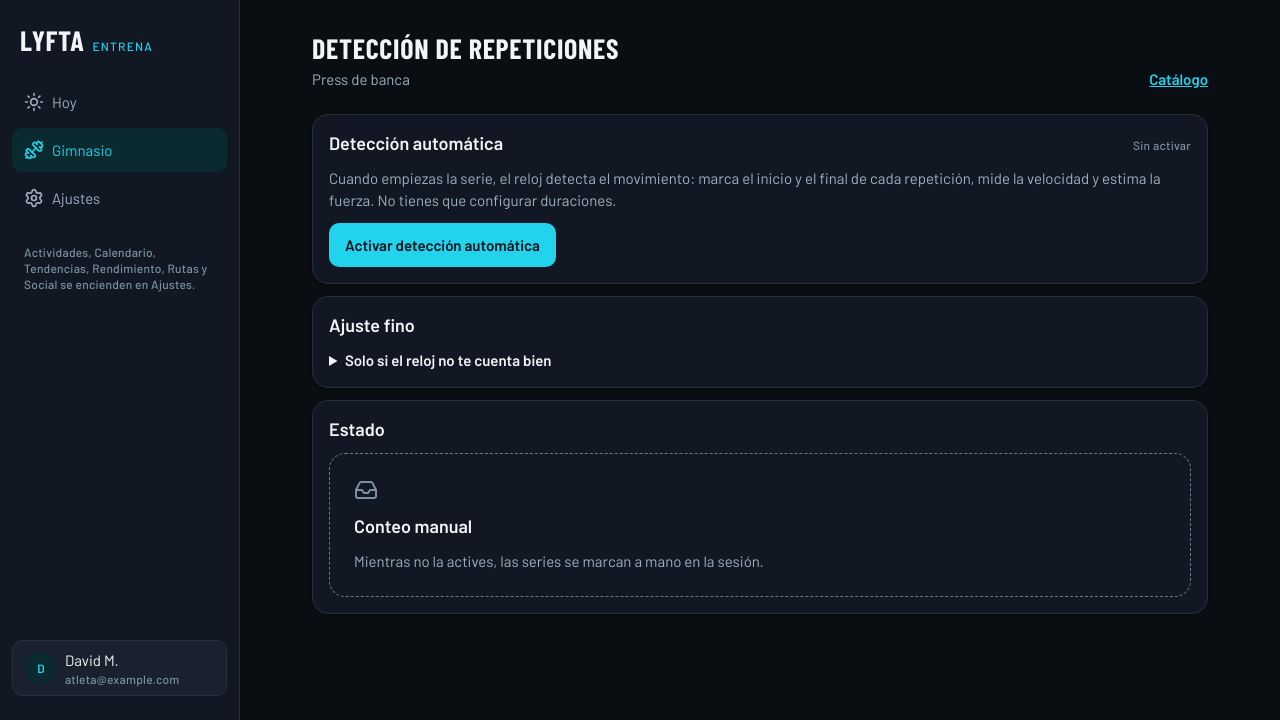
Test case: editor de detección automática por ejercicio › activa la detección sin pedir duración ni inicio de serie
Expected: the heading "Detección de repeticiones" is shown, [312,32,619,64]
Expected: the text "detecta el movimiento" is shown, [329,169,1161,209]
Click the button "Activar detección automática": [442, 245] box [329,223,556,267]
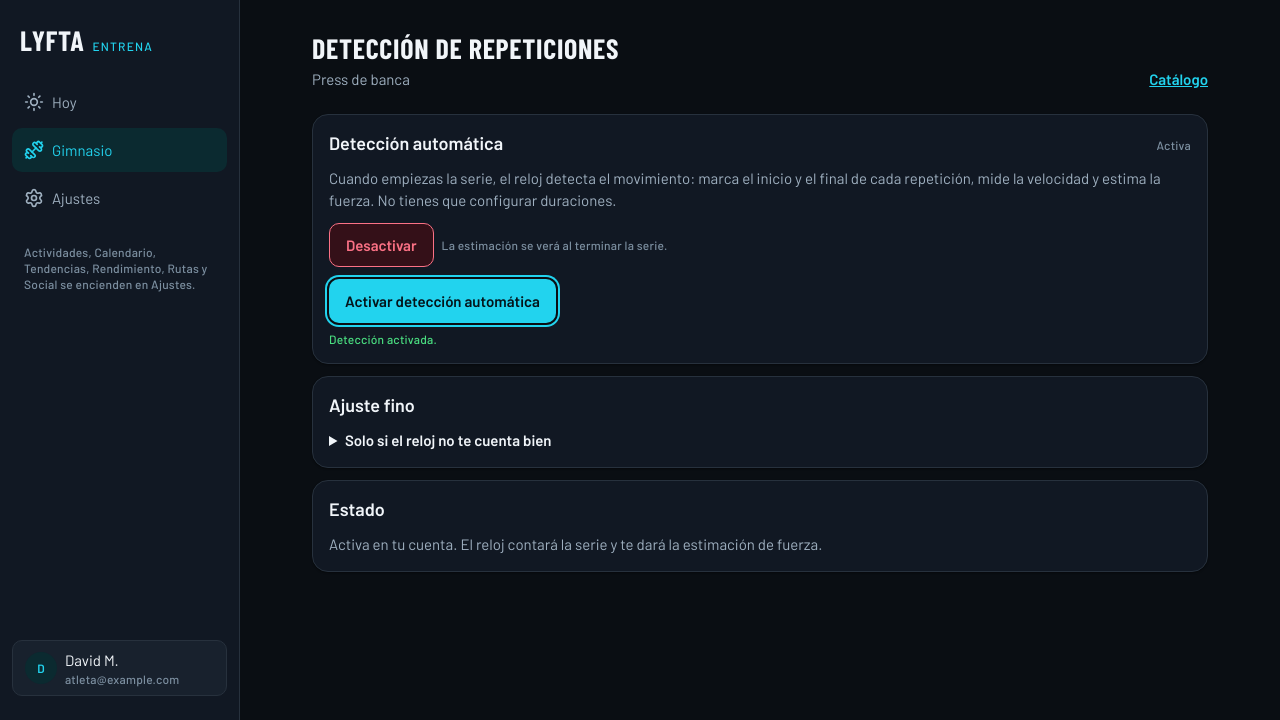
Expected: the text "Detección activada." is shown, [329,332,437,346]
